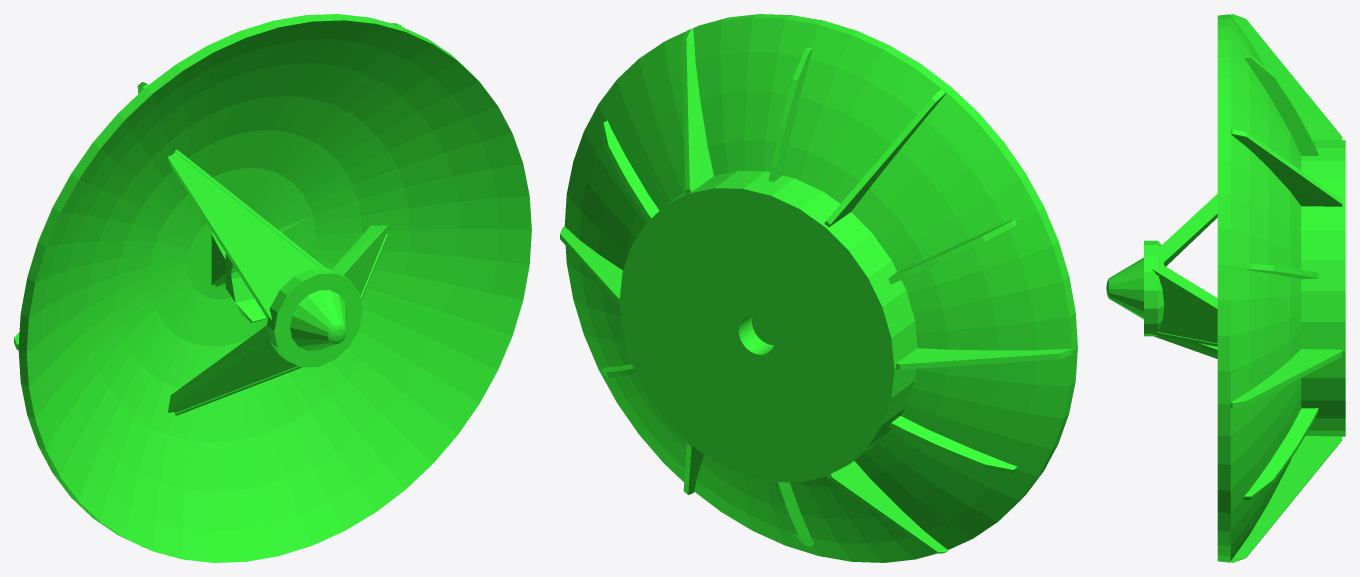
Rendered from Dish.obj.
3 views of the same model, side by side, from view 1: azimuth 30°, elevation 25°; view 2: azimuth 150°, elevation 25°; view 3: azimuth 270°, elevation 25° (orthographic). The views are drawn at different scales.
Visible parts, largest first — view 1: Dish; view 2: Dish; view 3: Dish.
Part boxes in pixels (<box>): Dish: <box>14,14,531,562</box>; Dish: <box>560,14,1077,562</box>; Dish: <box>1106,14,1345,562</box>.
Size of the model in its own units: 1 by 1 by 0.4368.
